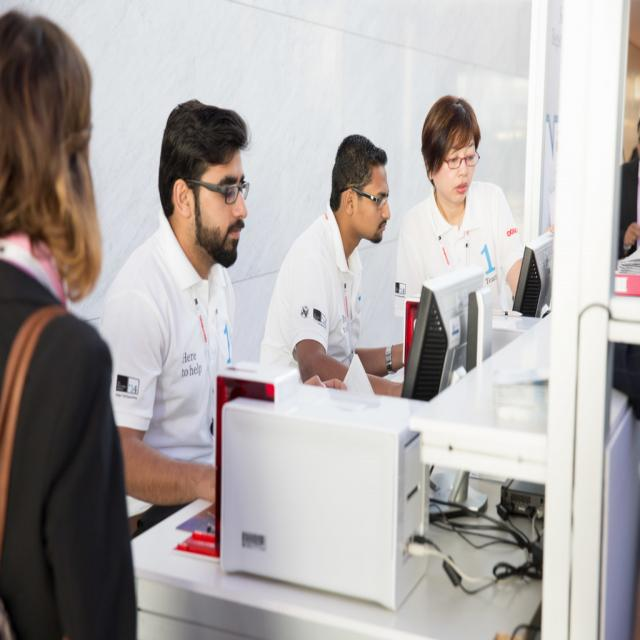desk: (233, 326, 531, 615)
person: (0, 13, 138, 640), (99, 98, 254, 530), (259, 134, 404, 387), (394, 95, 525, 327)
tv: (399, 262, 490, 400)
